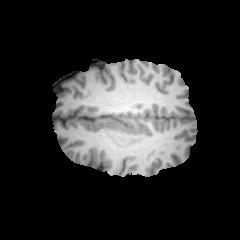glioma: (104, 118, 149, 147)
